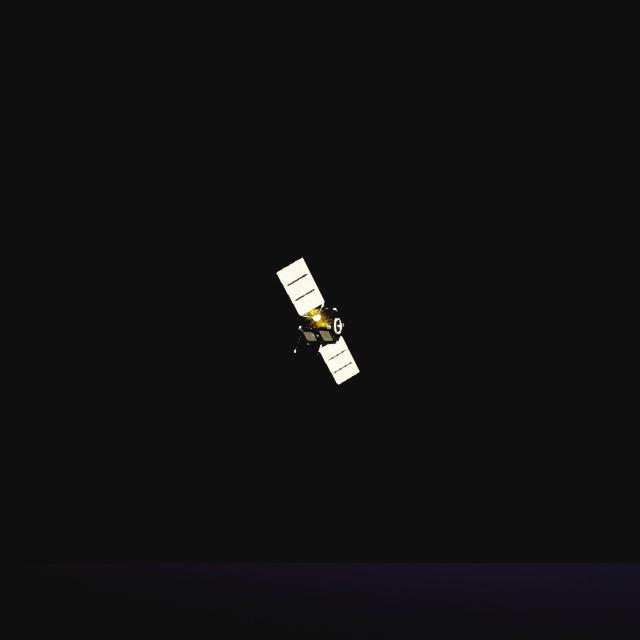medium_debris: (277, 259, 359, 385)
